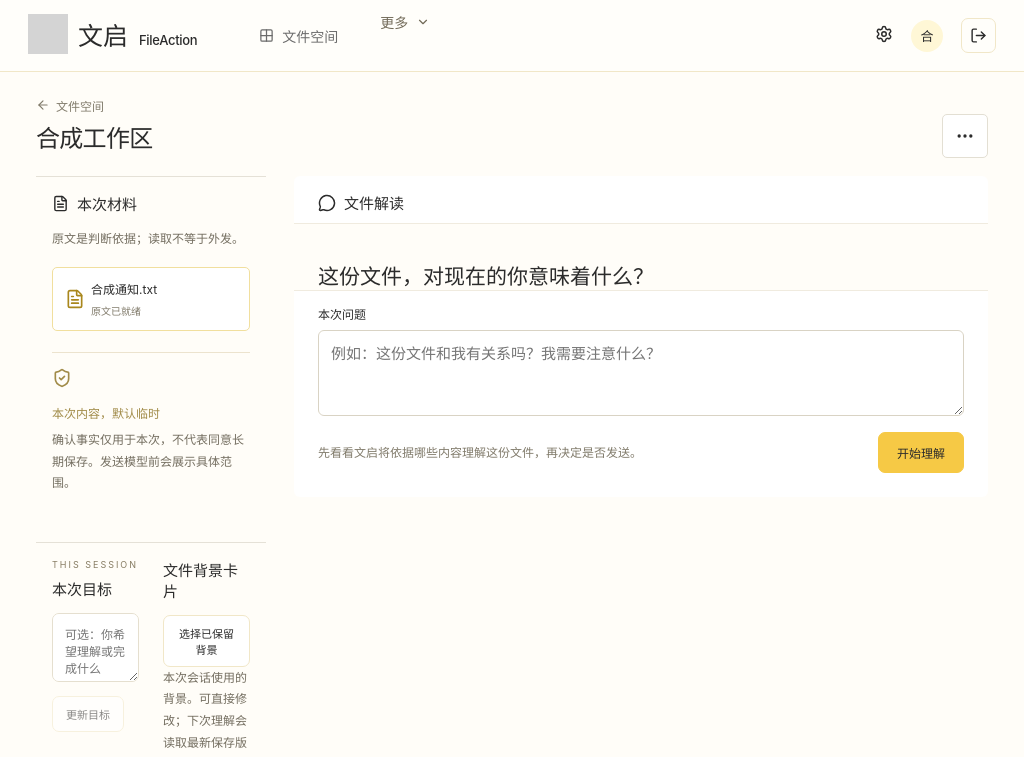
Test case: 首次理解不前置起草意图，默认请求只解释文件
Expected: the text box labelled "本次问题" is shown, [318,330,964,416]
Click the button with aria-label "预览外发内容" at (921, 453), box [878,432,964,473]
(page scrolled)
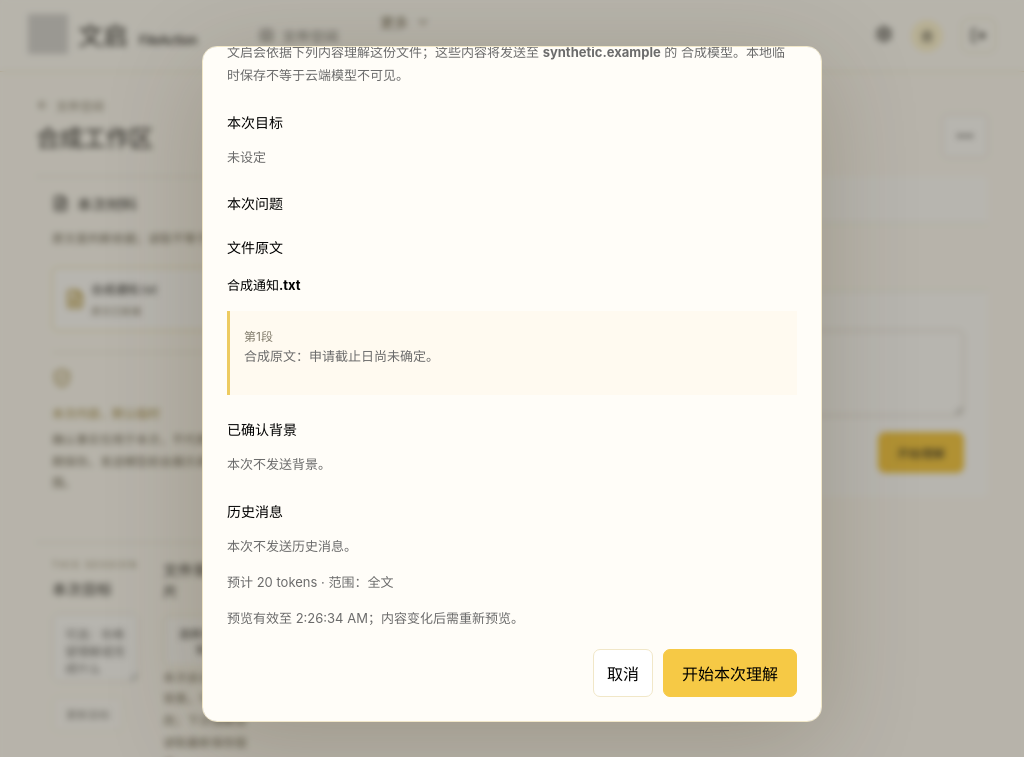
Expected: the button "开始本次理解" is shown, [663,649,797,697]
